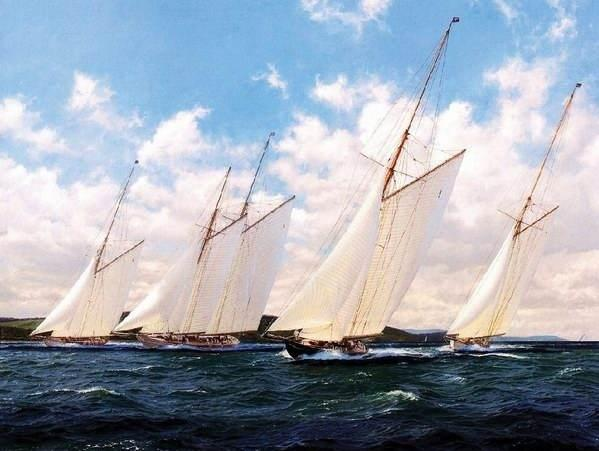fanchuan: (275, 13, 477, 352), (124, 129, 306, 350), (444, 80, 587, 354), (32, 159, 157, 353)
